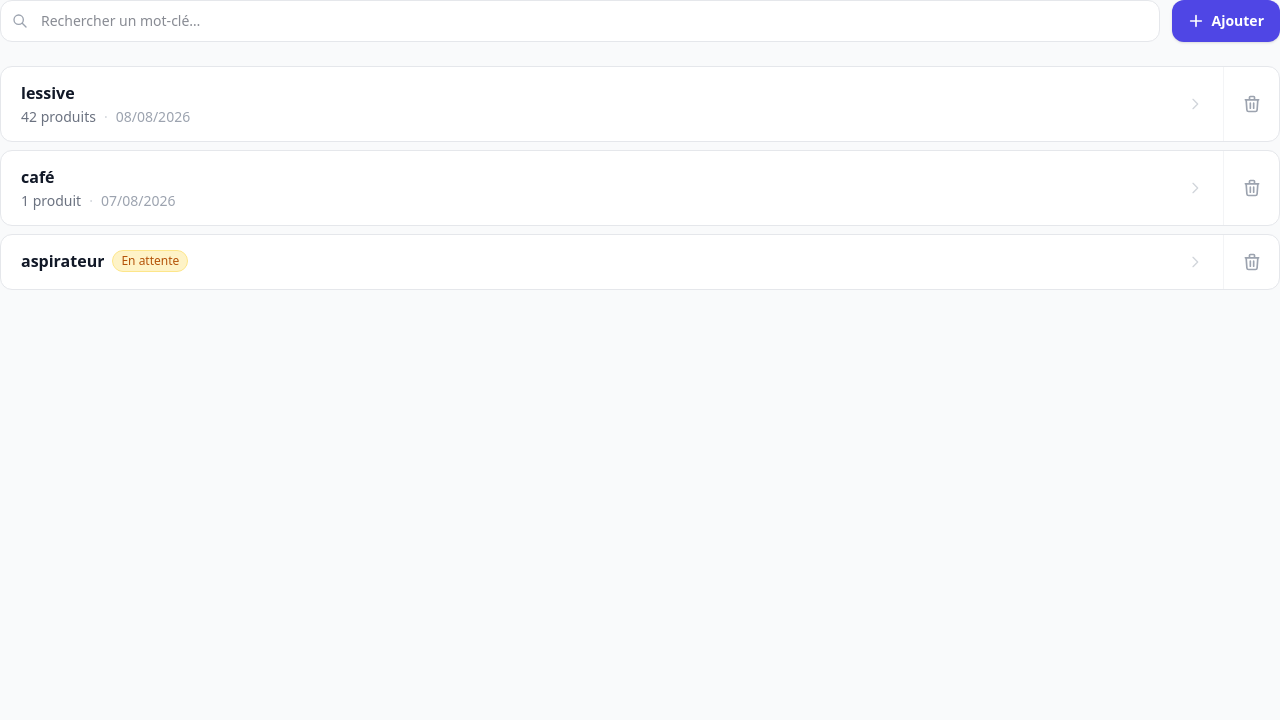
KeywordDashboard › suppression › demande confirmation avant de supprimer
Click the button named "Supprimer le mot-clé lessive" at (1251, 104), box [1223, 67, 1279, 141]
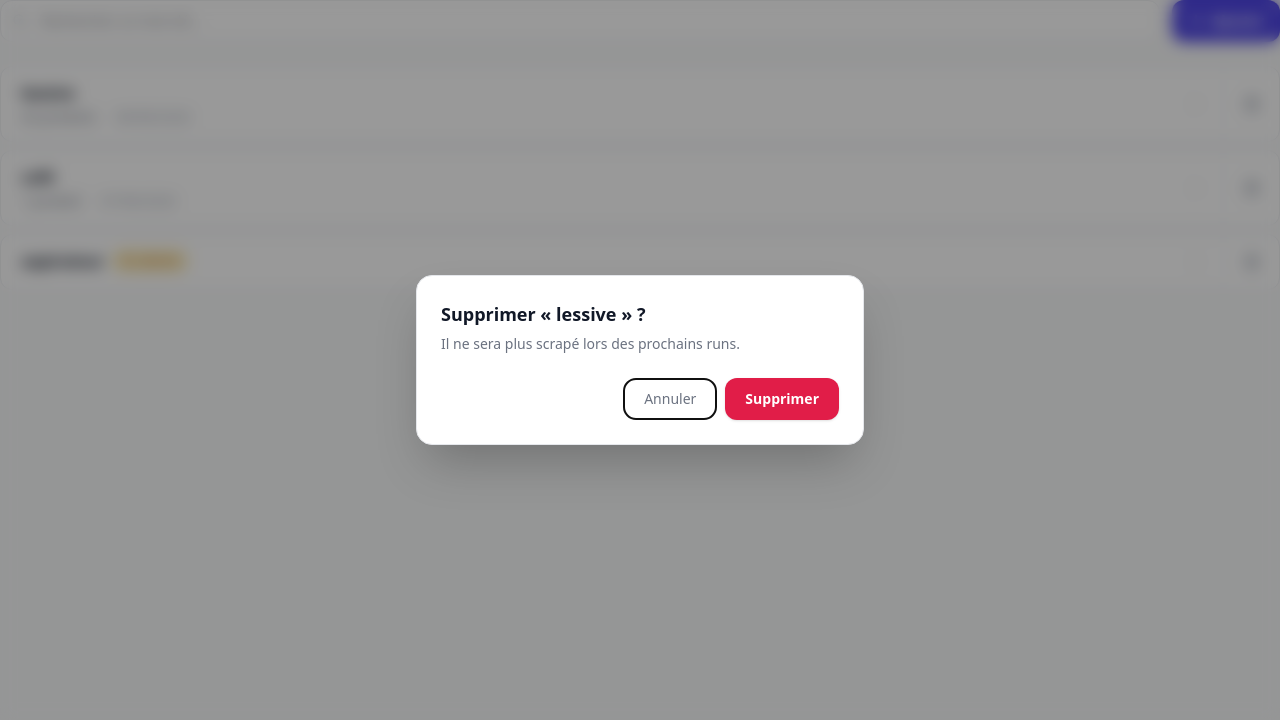
Check: the dialog is shown, box [416, 275, 864, 445]
